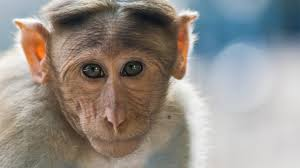monkey: (4, 6, 222, 156)
